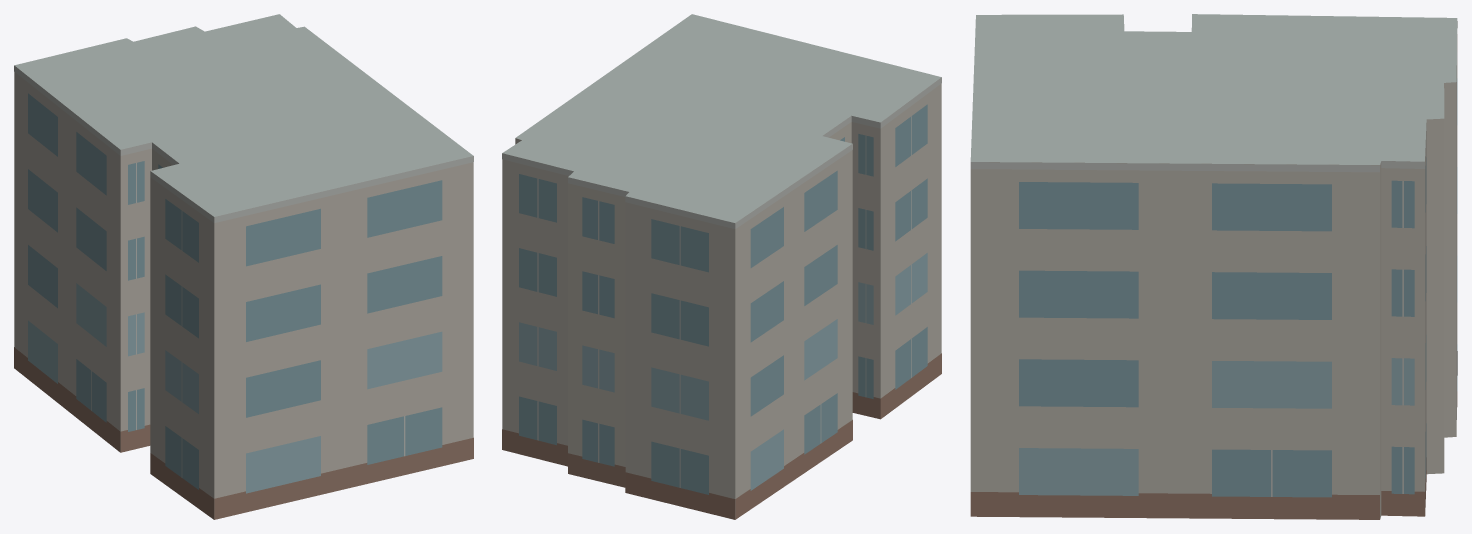
File: survey-upis-32612801.glb
3 views of the same model, side by side, from view 1: azimuth 30°, elevation 25°; view 2: azimuth 150°, elevation 25°; view 3: azimuth 270°, elevation 25° (orthographic). The views are drawn at different scales.
Visible parts, largest first — view 1: survey-upis-32612801.tmp; view 2: survey-upis-32612801.tmp; view 3: survey-upis-32612801.tmp.
Part boxes in pixels (x1,y1,x2,y2): survey-upis-32612801.tmp: (14,14,473,519); survey-upis-32612801.tmp: (502,14,941,519); survey-upis-32612801.tmp: (970,14,1457,519).
Size of the model in its own units: 10.88 by 11.9 by 14.81.
